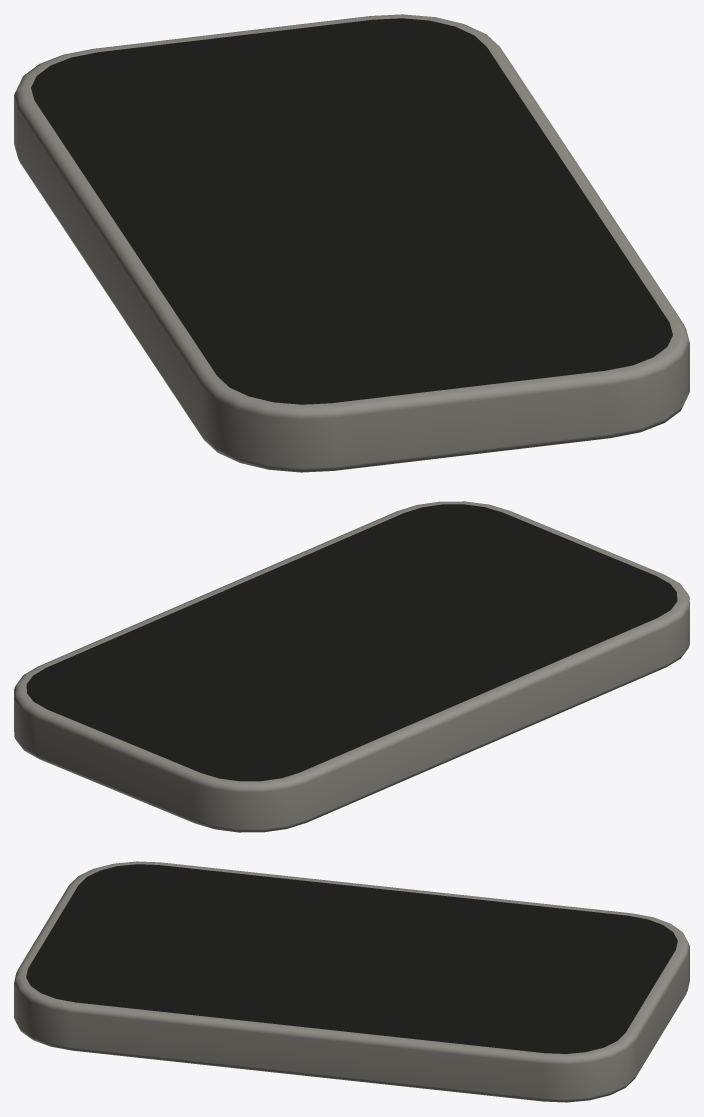
Rendered from SM_cell_phone.glb.
The picture shows the model from 3 angles, top to bottom: view 1: azimuth 30°, elevation 25°; view 2: azimuth 150°, elevation 25°; view 3: azimuth 270°, elevation 25°; orthographic projection. The views are drawn at different scales.
Visible parts, largest first — view 1: SM_cell_phone; view 2: SM_cell_phone; view 3: SM_cell_phone.
Part boxes in pixels (box(x1,y1,x2,y2)): SM_cell_phone: box(14, 14, 689, 472); SM_cell_phone: box(14, 501, 689, 832); SM_cell_phone: box(14, 861, 689, 1102).
Size of the model in its own units: 0.1674 by 0.0178 by 0.239.
1 material, 1 textured.
